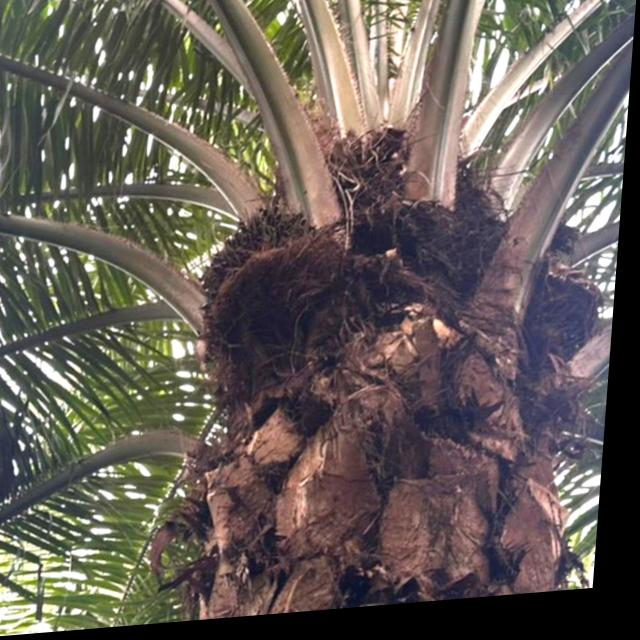unripe: (187, 189, 338, 386)
